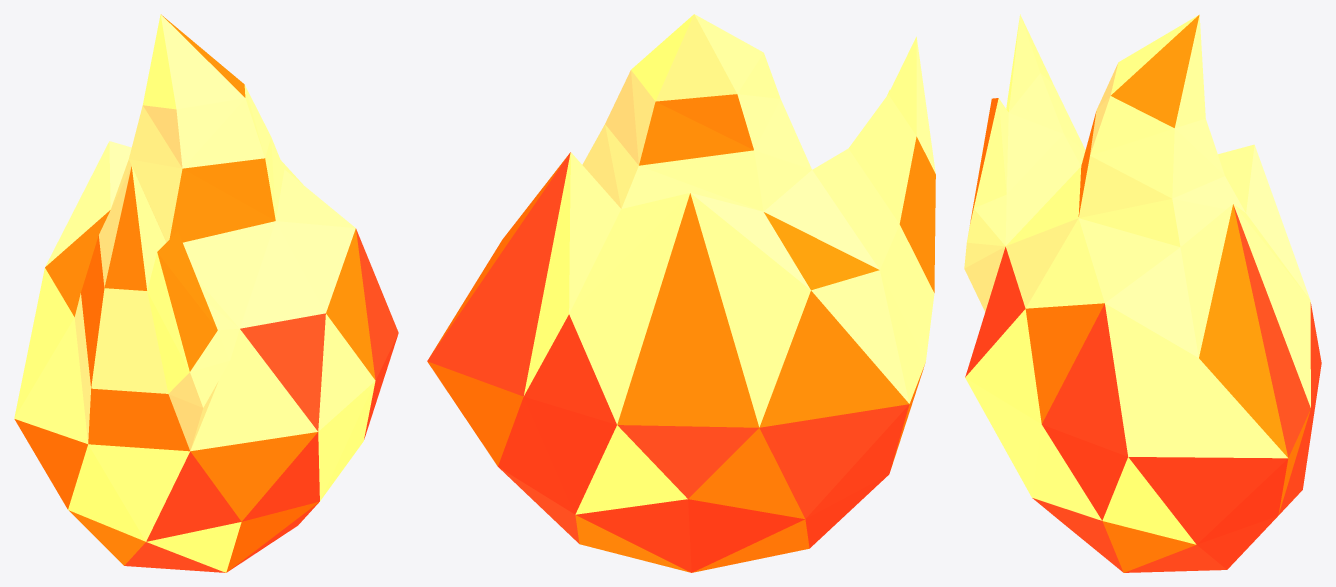
The model's file is Fire.glb.
The picture shows the model from 3 angles, left to right: view 1: azimuth 30°, elevation 25°; view 2: azimuth 150°, elevation 25°; view 3: azimuth 270°, elevation 25°; orthographic projection. The views are drawn at different scales.
Parts seen in each view (by area): view 1: Fire.001_2; view 2: Fire.001_2; view 3: Fire.001_2.
Boxes of the visible parts, x1,y1,x2,y2 form: Fire.001_2: [14, 14, 398, 572]; Fire.001_2: [427, 14, 935, 572]; Fire.001_2: [964, 14, 1321, 572].
Bounding box in the file's own units: 0.6199 × 0.8395 × 0.5045.
